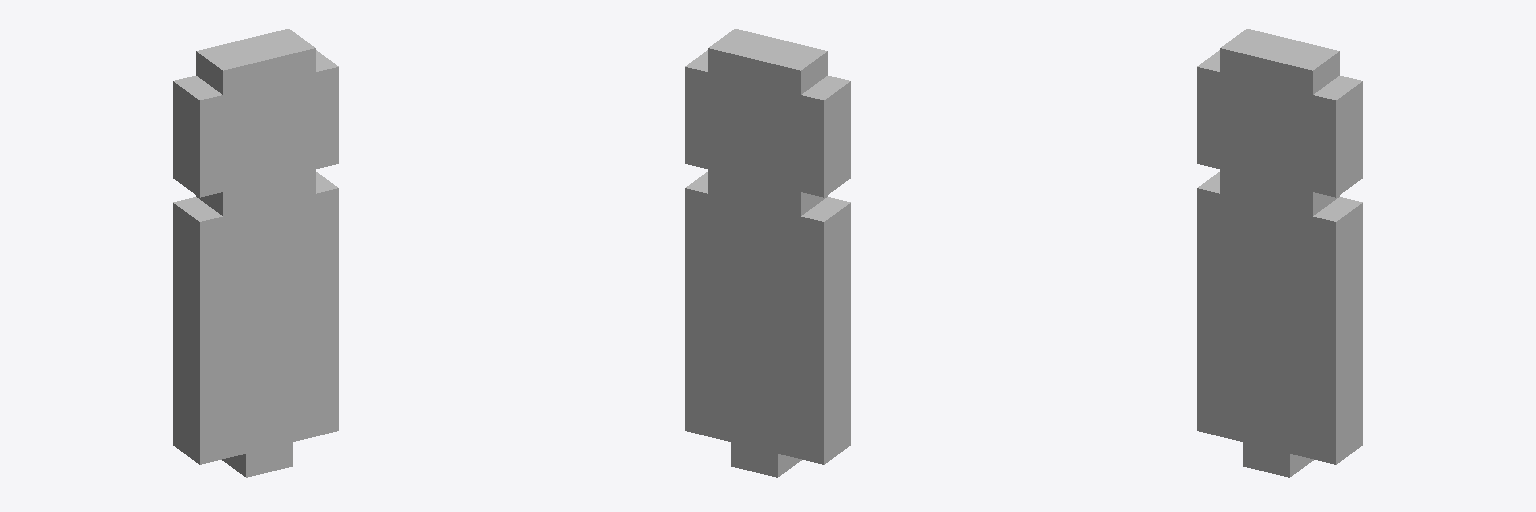
Rendered from player.obj.
3 renders of one model, left to right at view 1: azimuth 30°, elevation 25°; view 2: azimuth 150°, elevation 25°; view 3: azimuth 330°, elevation 25°, orthographic.
Size of the model in its own units: 6 by 17 by 2.